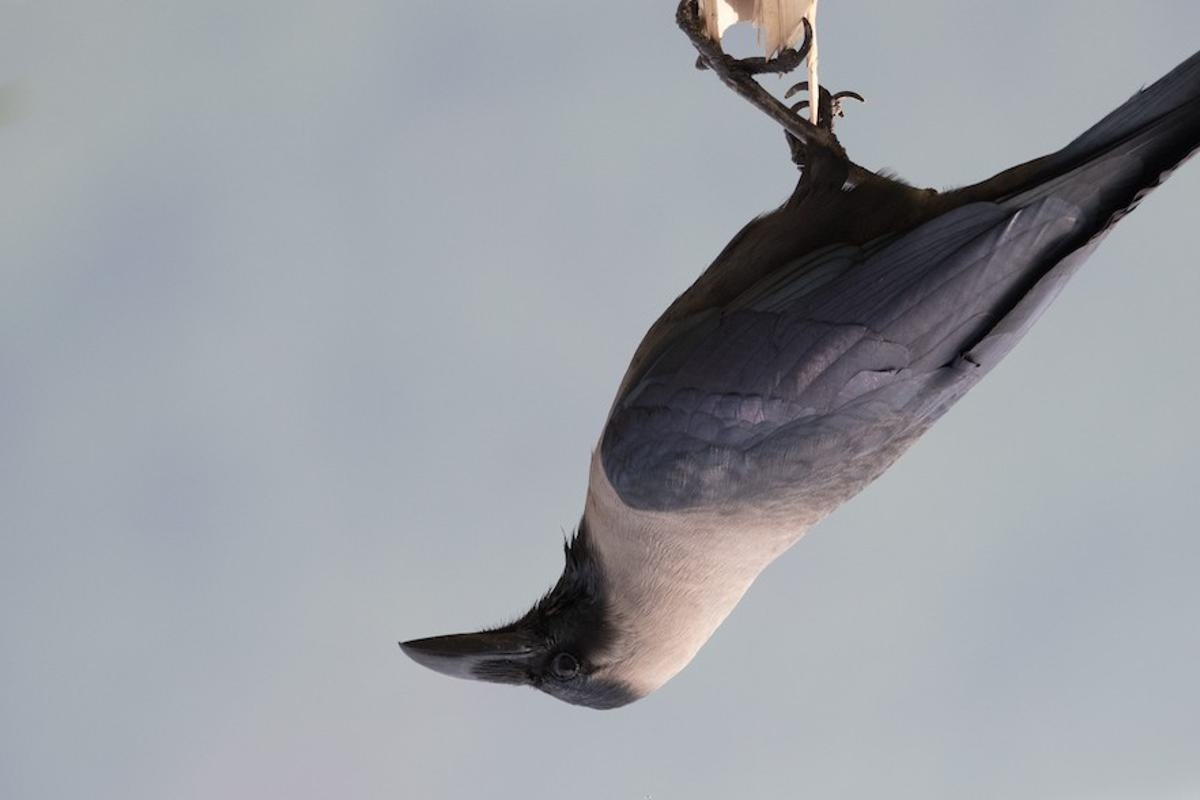crow: (390, 1, 1200, 724)
